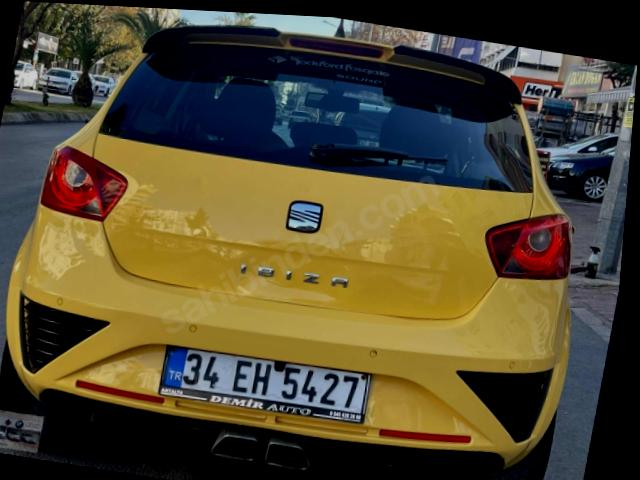plaka: (159, 347, 369, 423)
